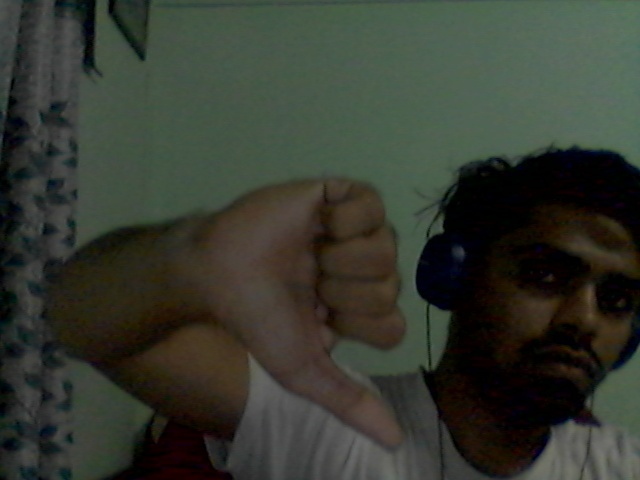No: (168, 145, 418, 460)
